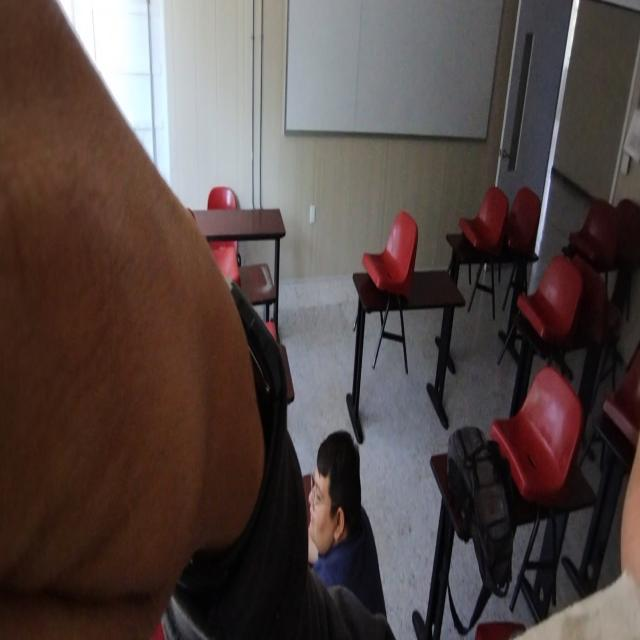adult: (304, 430, 382, 590)
